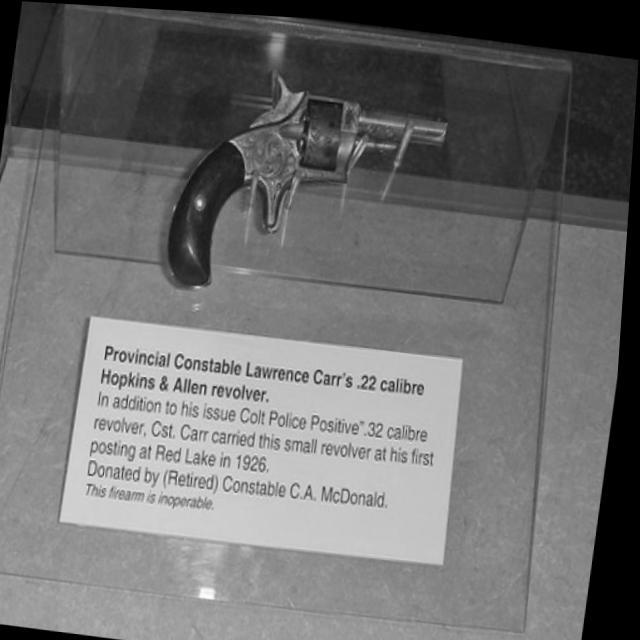weapon: (162, 53, 454, 313)
